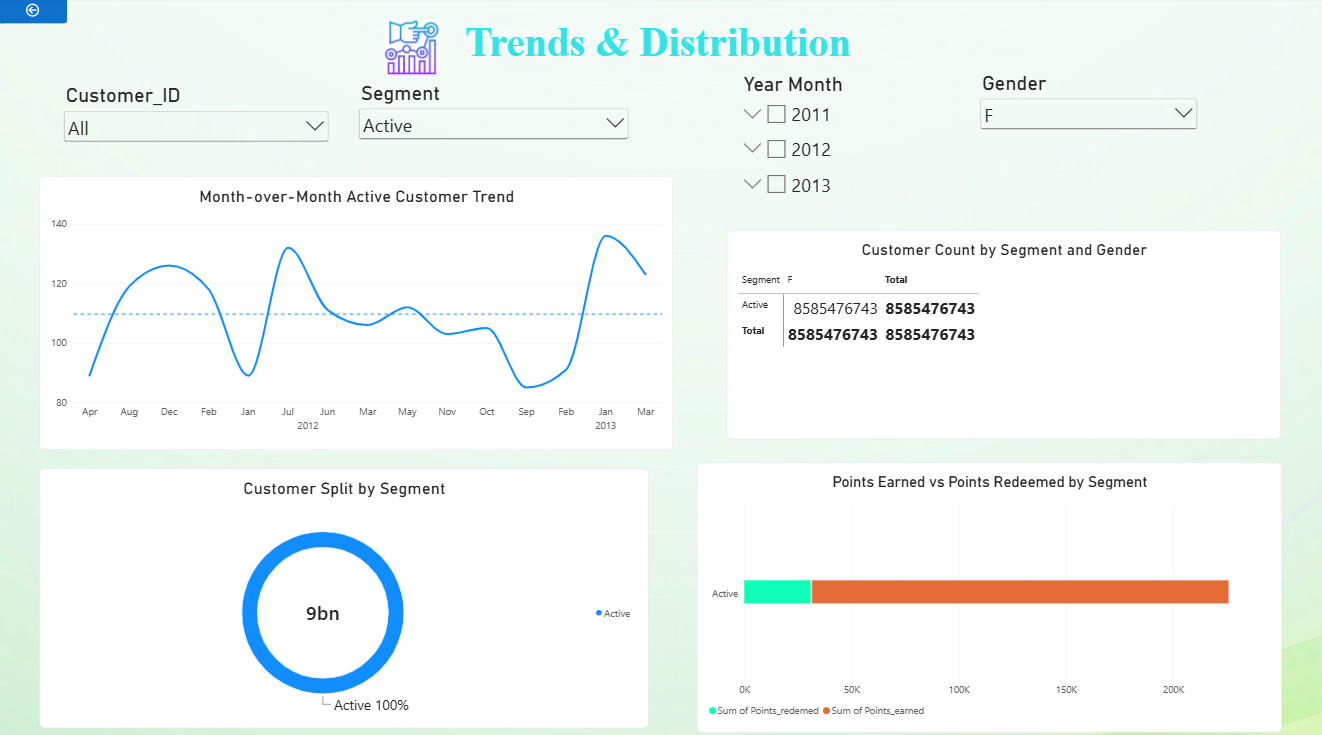

What the dashboard file says about the page in this screenshot:
{"tool":"powerbi","page":{"name":"Trends and Distribution","canvas":[1920,1080],"ordinal":2},"visuals":[{"type":"textbox","box":[10.3,35,1889.5,125.6],"z":0},{"type":"image","box":[541.1,34.4,115.8,79.6],"z":1000},{"type":"lineChart","title":"Month-over-Month Active Customer Trend","fields":{"Category":["Calendar.Year","Calendar.Month"],"Y":["customer.Active_Customers"]},"box":[59.6,260.7,917.9,396.6],"z":2000},{"type":"donutChart","title":"Customer Split by Segment","fields":{"Category":["customer.Segment"],"Y":["customer.Customer_Count"]},"box":[59.6,683.3,882.6,376.1],"z":3000},{"type":"barChart","title":"Points Earned vs Points Redeemed by Segment","fields":{"Category":["customer.Segment"],"Y":["Sum(customer.Points_redemed)","Sum(customer.Points_earned)"]},"box":[1011,675.9,847.2,391],"z":4000},{"type":"pivotTable","title":"Customer Count by Segment and Gender","fields":{"Columns":["customer.Gender"],"Rows":["customer.Segment"],"Values":["customer.Customer_Count"]},"box":[1055.7,338.9,802.5,303.5],"z":5000},{"type":"slicer","fields":{"Values":["customer.Segment"]},"box":[517.6,122.9,400.3,121],"z":6000},{"type":"slicer","fields":{"Values":["customer.Customer_ID"]},"box":[91.2,126.6,392.9,117.3],"z":6001},{"type":"slicer","fields":{"Values":["Calendar.Year","Calendar.Month"]},"box":[1070.6,109.9,322.1,188.1],"z":6002},{"type":"slicer","fields":{"Values":["customer.Gender"]},"box":[1416.9,108,324,204.8],"z":6003},{"type":"actionButton","box":[0,0,100,40],"z":6004}]}

Visuals, with their boxes in screenshot pixels (x1, y1, x2, y2), scaled from the page's 1920x1080 canvas onto the 1322x735 screenshot:
textbox: 7,24,1308,109
image: 373,23,452,78
"Month-over-Month Active Customer Trend" lineChart: 41,177,673,447
"Customer Split by Segment" donutChart: 41,465,649,721
"Points Earned vs Points Redeemed by Segment" barChart: 696,460,1279,726
"Customer Count by Segment and Gender" pivotTable: 727,231,1279,437
slicer - customer.Segment: 356,84,632,166
slicer - customer.Customer_ID: 63,86,333,166
slicer - Calendar.Year x Calendar.Month: 737,75,959,203
slicer - customer.Gender: 976,74,1199,213
actionButton: 0,0,69,27
